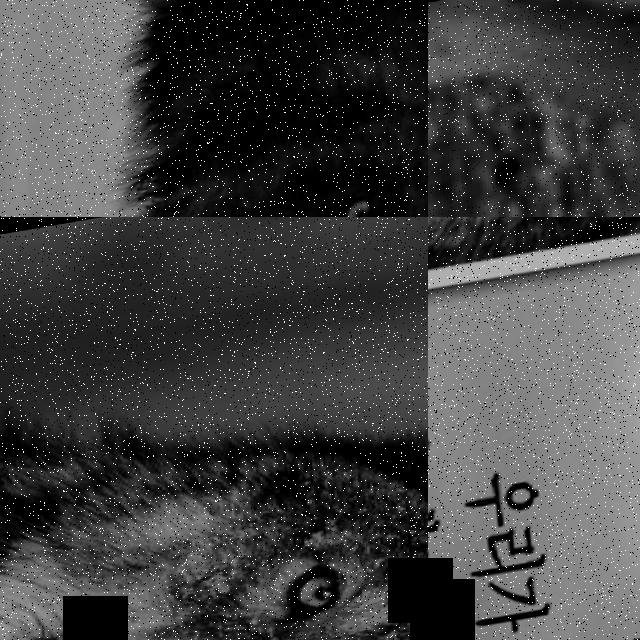wolf: (0, 217, 428, 640), (0, 0, 428, 217), (428, 0, 640, 217), (428, 217, 640, 341)
